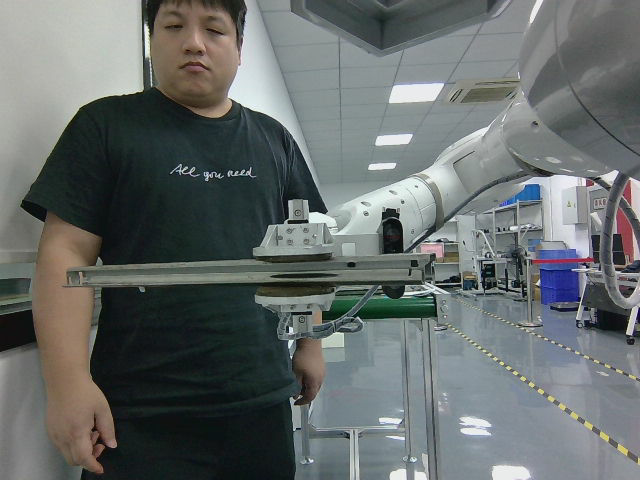down: (62, 252, 437, 296)
